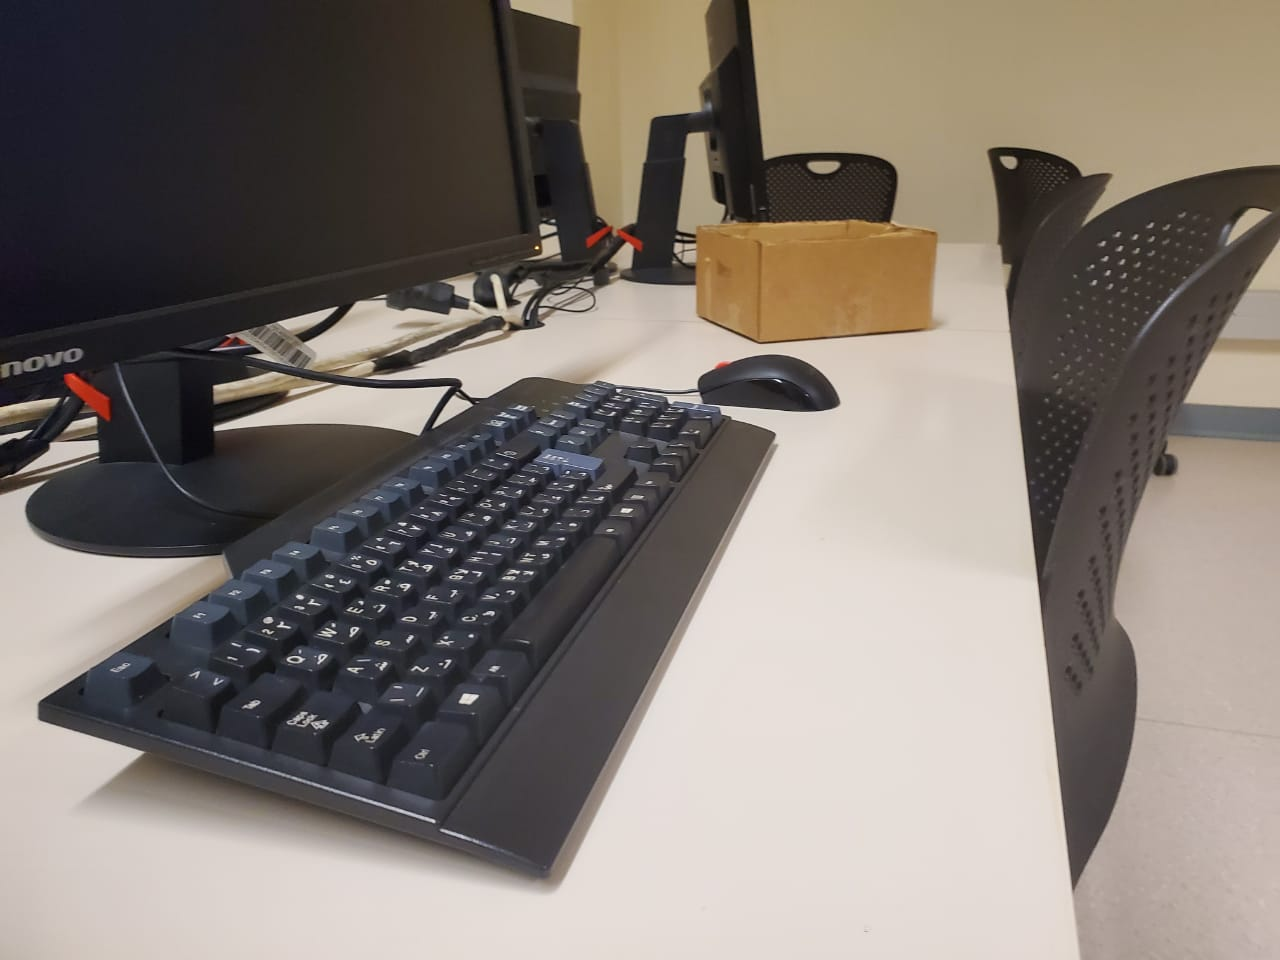CBox: (692, 212, 958, 349)
